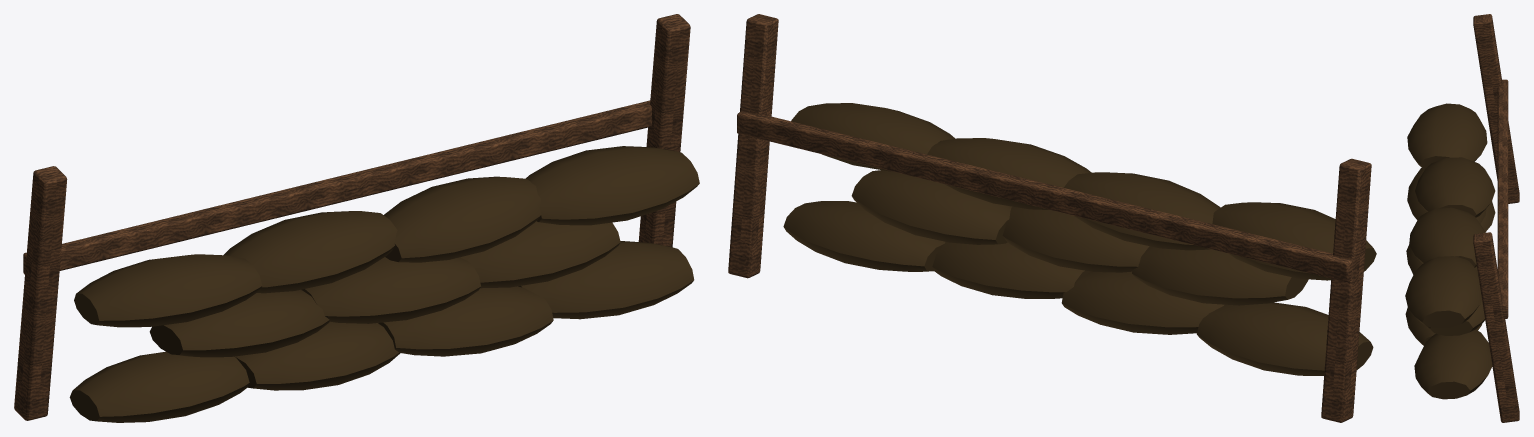
File: sandbag_wall.glb
The picture shows the model from 3 angles, left to right: view 1: azimuth 30°, elevation 25°; view 2: azimuth 150°, elevation 25°; view 3: azimuth 270°, elevation 25°; orthographic projection. The views are drawn at different scales.
Visible parts, largest first — view 1: SandbagWall; view 2: SandbagWall; view 3: SandbagWall.
Boxes of the visible parts, x1,y1,x2,y2 form: SandbagWall: (14, 14, 699, 422); SandbagWall: (728, 14, 1376, 422); SandbagWall: (1405, 14, 1519, 422).
Size of the model in its own units: 2.53 by 0.9604 by 0.5414.
2 materials, 2 textured.
